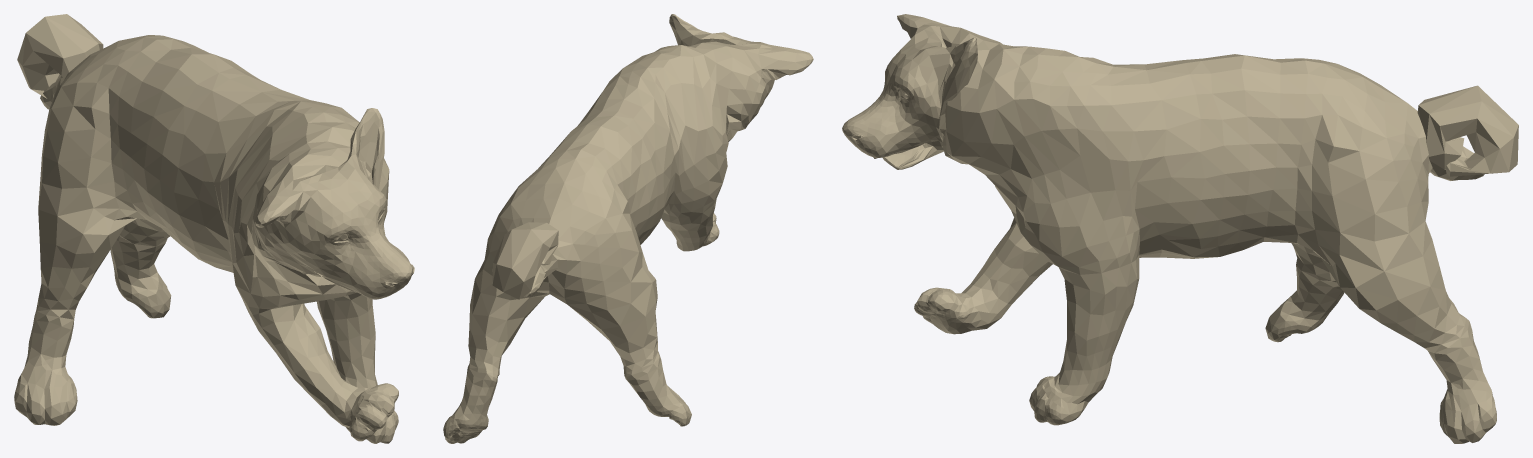
3 views of the same model, side by side, from view 1: azimuth 30°, elevation 25°; view 2: azimuth 150°, elevation 25°; view 3: azimuth 270°, elevation 25° (orthographic). The views are drawn at different scales.
Visible parts, largest first — view 1: world; view 2: world; view 3: world.
Boxes of the visible parts, x1,y1,x2,y2 form: world: [14, 14, 414, 443]; world: [443, 14, 813, 443]; world: [842, 14, 1518, 443].
Size of the model in its own units: 0.525 by 0.7858 by 1.24.
